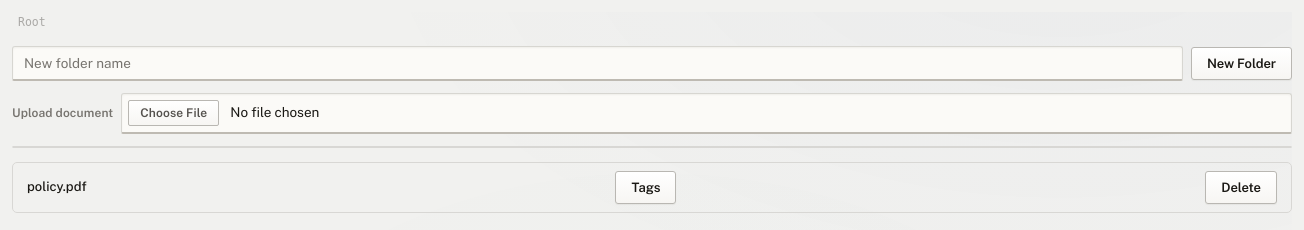
Test: DocumentBrowser › toggles an inline framework tag picker scoped to that evidence record
expect the link "policy.pdf" is shown: met, box [27,177,87,198]
expect the text "No framework tags yet." is not shown: met
Click the button "Tags".
click(646, 188)  # box [616,171,676,204]
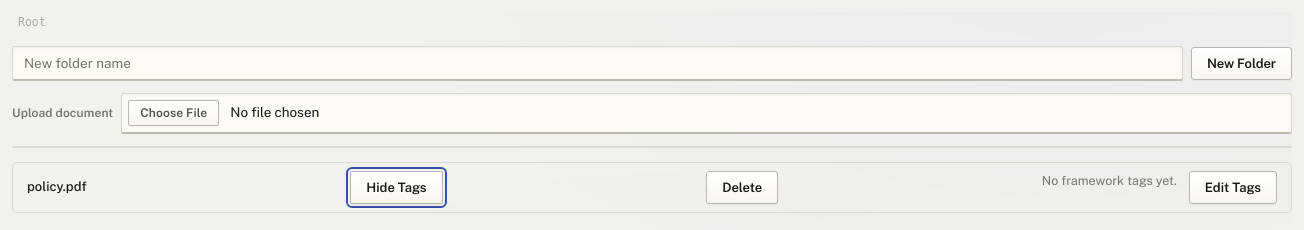
expect the text "No framework tags yet." is shown: met, box [1042,171,1177,190]
